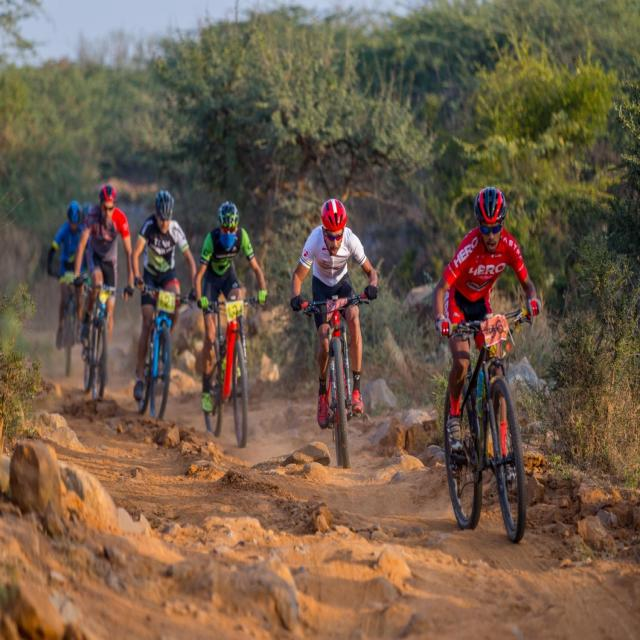bicycle: (432, 188, 540, 542), (291, 199, 378, 469), (195, 201, 268, 446), (132, 189, 195, 418), (75, 184, 132, 399), (48, 201, 82, 376)
